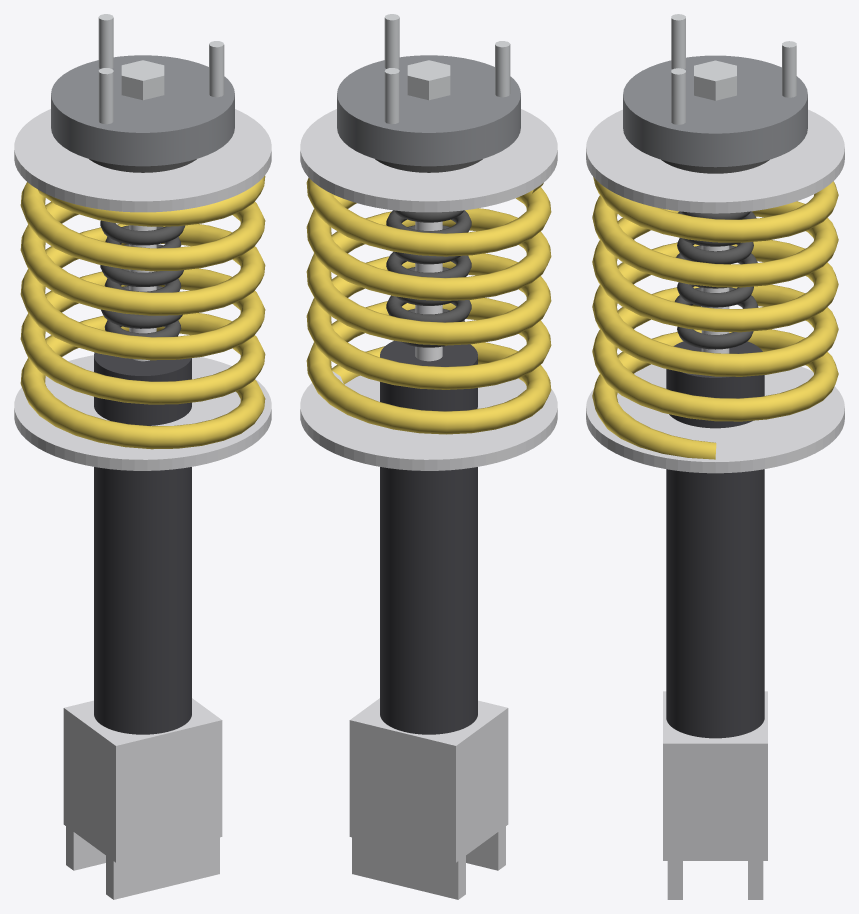
Rendered from amortiguador_mcpherson.glb.
The picture shows the model from 3 angles, left to right: view 1: azimuth 30°, elevation 25°; view 2: azimuth 150°, elevation 25°; view 3: azimuth 270°, elevation 25°; orthographic projection.
Parts seen in each view (by area): view 1: amortiguador, resorte, copela, plato_superior, guardapolvo, tuerca_superior; view 2: amortiguador, resorte, copela, plato_superior, guardapolvo, tuerca_superior; view 3: amortiguador, resorte, copela, plato_superior, guardapolvo, tuerca_superior.
Part boxes in pixels (x1,y1,x2,y2): amortiguador: [14, 225, 271, 899]; resorte: [20, 176, 265, 449]; copela: [51, 14, 234, 172]; plato_superior: [14, 109, 271, 212]; guardapolvo: [100, 220, 185, 337]; tuerca_superior: [121, 60, 164, 100]; amortiguador: [300, 221, 557, 899]; resorte: [306, 177, 551, 434]; copela: [337, 14, 520, 172]; plato_superior: [300, 109, 557, 212]; guardapolvo: [386, 210, 471, 347]; tuerca_superior: [407, 60, 450, 100]; amortiguador: [586, 245, 844, 899]; resorte: [592, 177, 838, 459]; copela: [623, 14, 807, 173]; plato_superior: [586, 109, 844, 213]; guardapolvo: [674, 211, 758, 349]; tuerca_superior: [694, 60, 736, 100].
Size of the model in its own units: 0.84 by 2.97 by 0.84.
